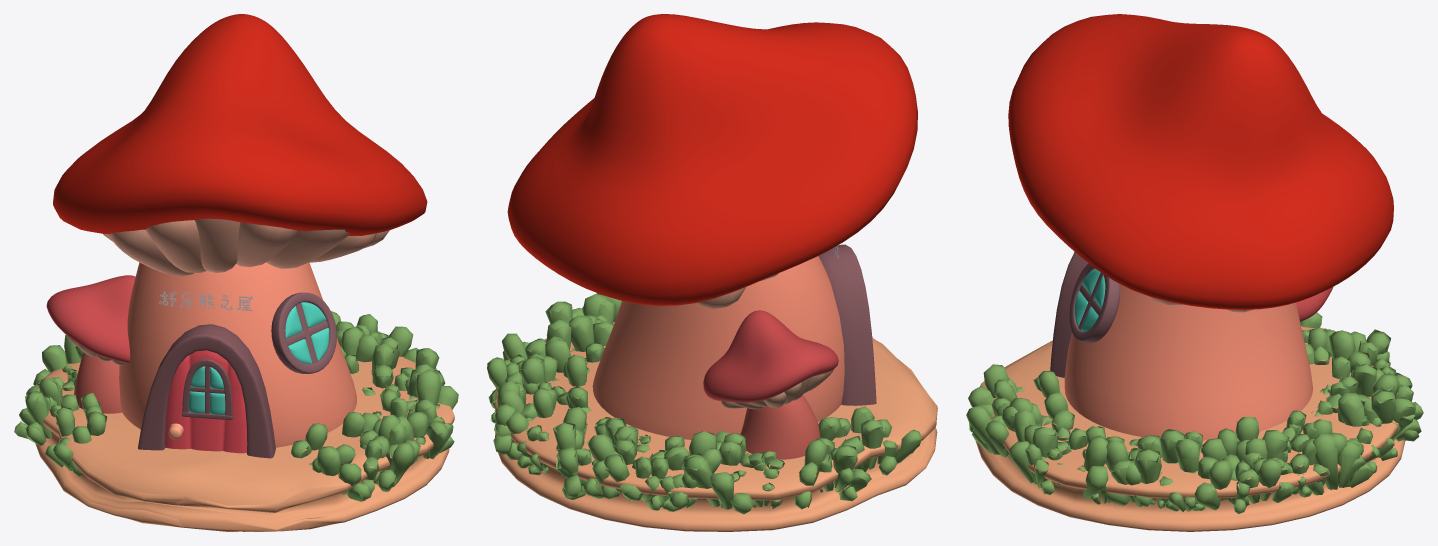
File: building-sunebear-home.glb
3 views of the same model, side by side, from view 1: azimuth 30°, elevation 25°; view 2: azimuth 150°, elevation 25°; view 3: azimuth 270°, elevation 25° (orthographic). The views are drawn at different scales.
Parts seen in each view (by area): view 1: mushroom-cap-top, base, mushroom-base, grass-right, mushroom-cap-bottom-top, door-frame, grass-left, mushroom-cap-side, door, window-frame, mushroom-base-side, window-glass (+3 smaller); view 2: mushroom-cap-top, base, mushroom-base, grass-left, grass-right, mushroom-cap-side, door-frame, mushroom-base-side, mushroom-cap-bottom-side; view 3: mushroom-cap-top, mushroom-base, grass-right, base, grass-left, window-frame, door-frame, window-glass, mushroom-cap-side.
Boxes of the visible parts, x1,y1,x2,y2 form: mushroom-cap-top: (53, 14, 427, 235); base: (35, 356, 454, 531); mushroom-base: (119, 262, 356, 447); grass-right: (291, 311, 458, 501); mushroom-cap-bottom-top: (103, 218, 389, 276); door-frame: (138, 324, 275, 458); grass-left: (14, 335, 106, 475); mushroom-cap-side: (46, 275, 135, 363); door: (165, 350, 247, 453); window-frame: (271, 292, 336, 373); mushroom-base-side: (74, 352, 121, 413); window-glass: (285, 302, 329, 363); mushroom-cap-top: (507, 14, 917, 305); base: (494, 322, 937, 531); mushroom-base: (592, 256, 844, 439); grass-left: (516, 406, 922, 514); grass-right: (487, 293, 621, 459); mushroom-cap-side: (703, 310, 838, 402); door-frame: (818, 244, 876, 405); mushroom-base-side: (740, 395, 820, 459); mushroom-cap-bottom-side: (721, 369, 833, 409); mushroom-cap-top: (1008, 14, 1393, 309); mushroom-base: (1064, 284, 1312, 440); grass-right: (966, 364, 1373, 514); base: (975, 326, 1405, 531); grass-left: (1300, 312, 1423, 473); window-frame: (1069, 263, 1119, 342); door-frame: (1050, 252, 1088, 377); window-glass: (1074, 269, 1105, 331); mushroom-cap-side: (1296, 287, 1333, 321).
Bounding box in the file's own units: 20.17 × 20.57 × 20.17.
